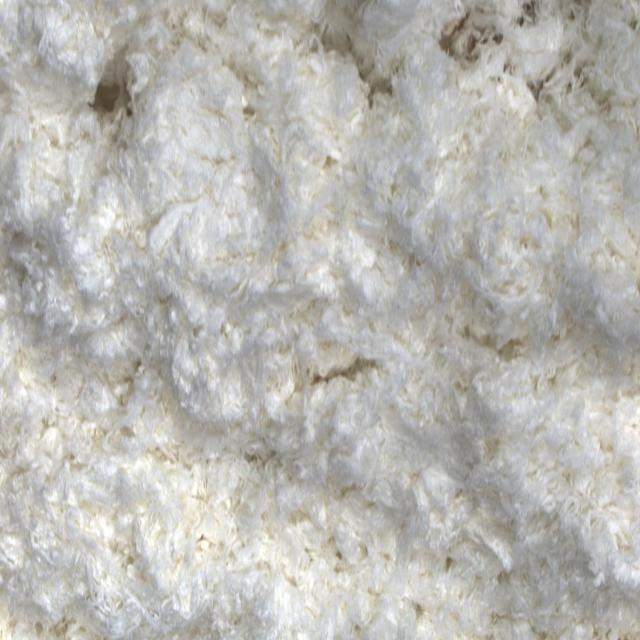dust: (83, 40, 144, 154), (439, 9, 514, 100), (337, 40, 397, 106)
